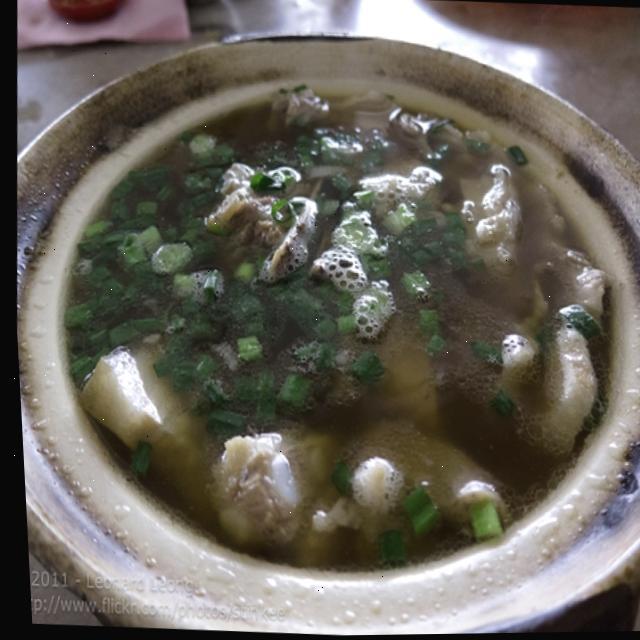汤锅炖物: (0, 1, 640, 637)
